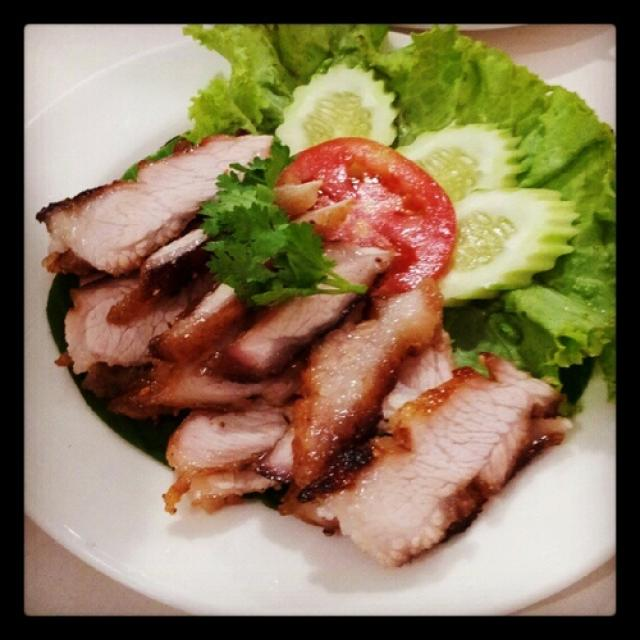猪肉菜式: (33, 69, 594, 589)
